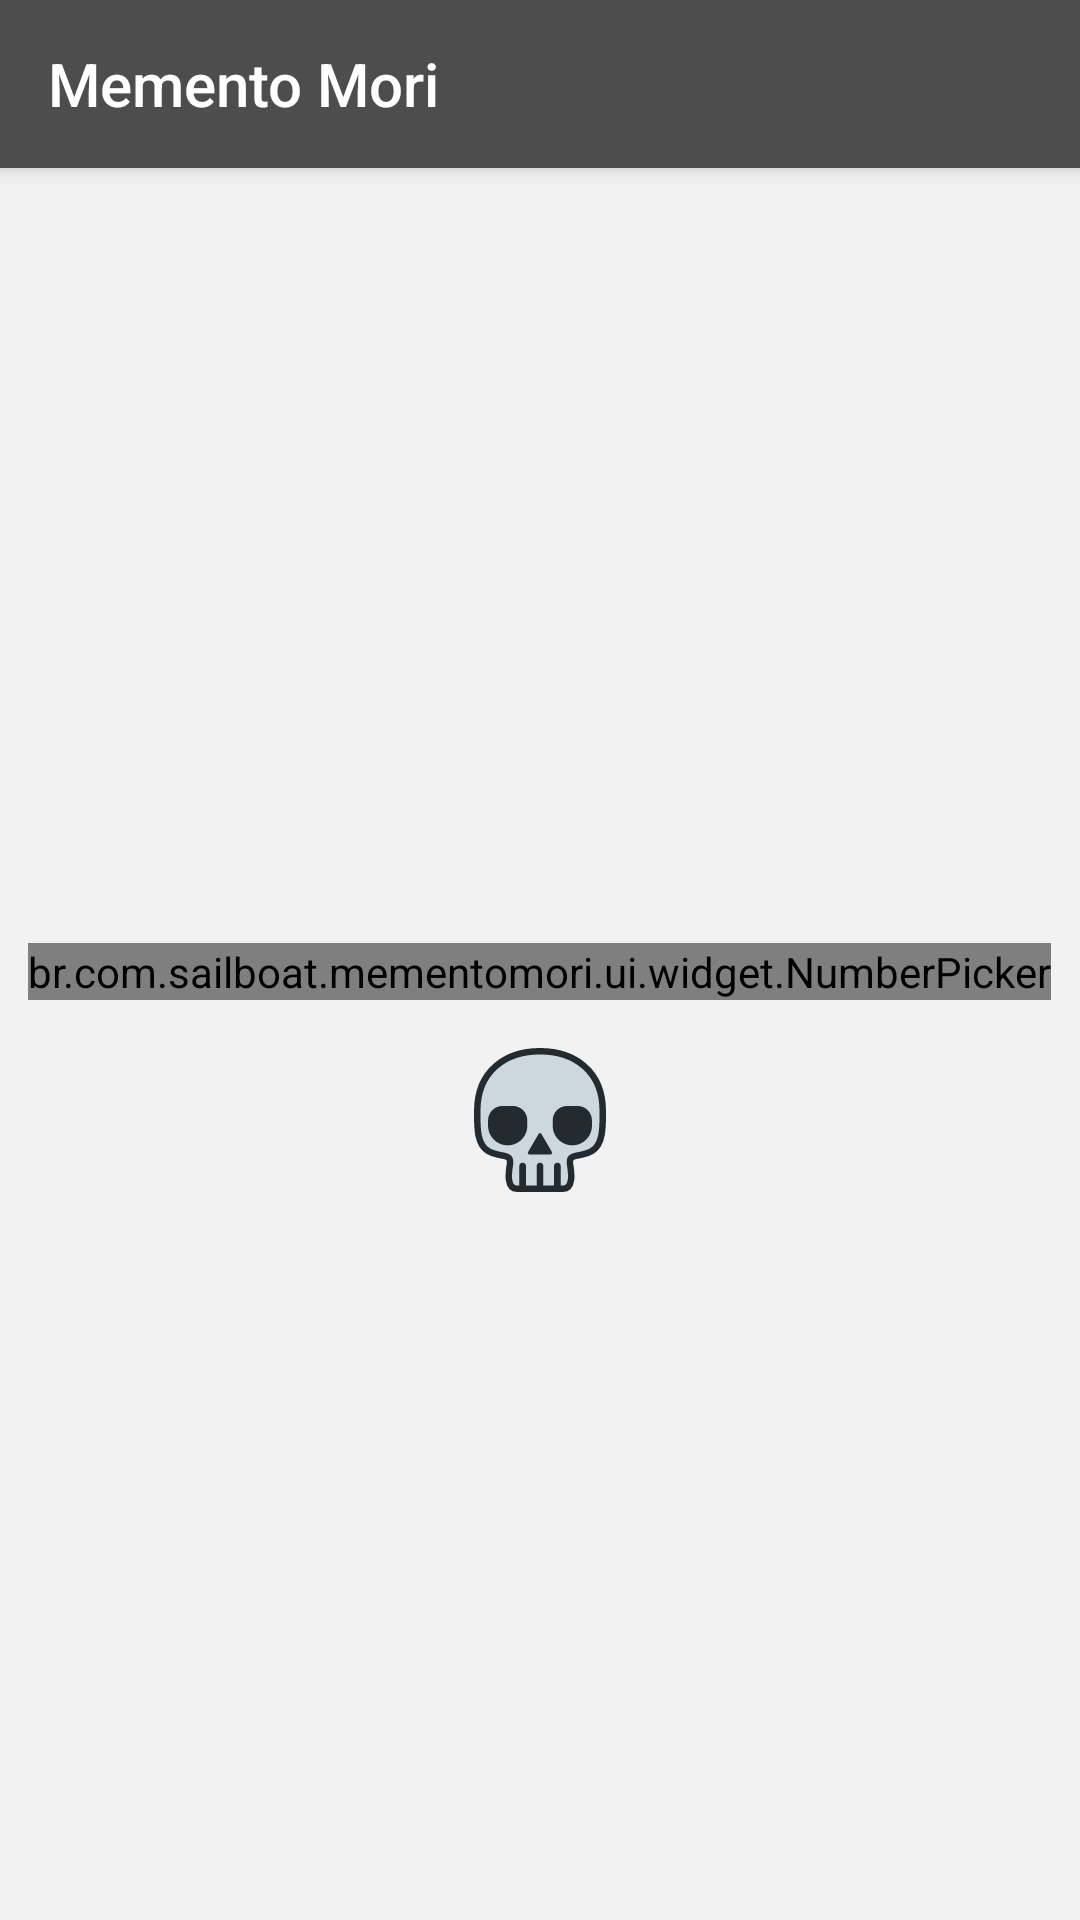

Icons on this 1080*1920 Android screen, each with its box as box=[x1, y1, x2, y2]:
skull: box=[474, 1048, 606, 1192]
